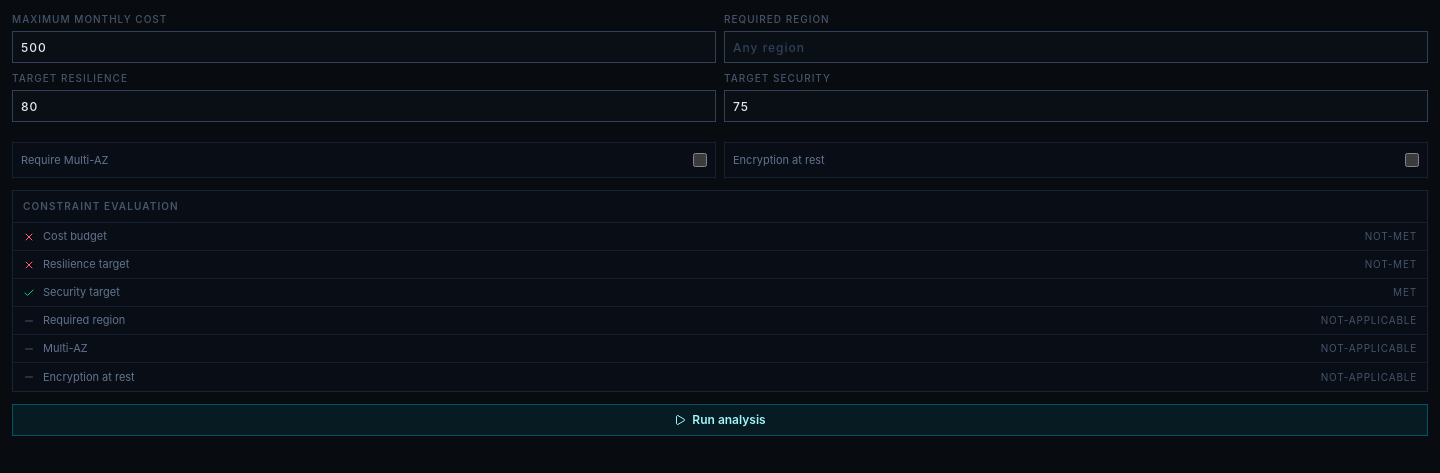
Scenario: numeric inspector validation › restores rejected Target resilience without changing history
The width and height of the screenshot is (1440, 473).
Replace the text in the number field labelled "Target resilience" with "101" at (364, 106), box [12,90,716,122]
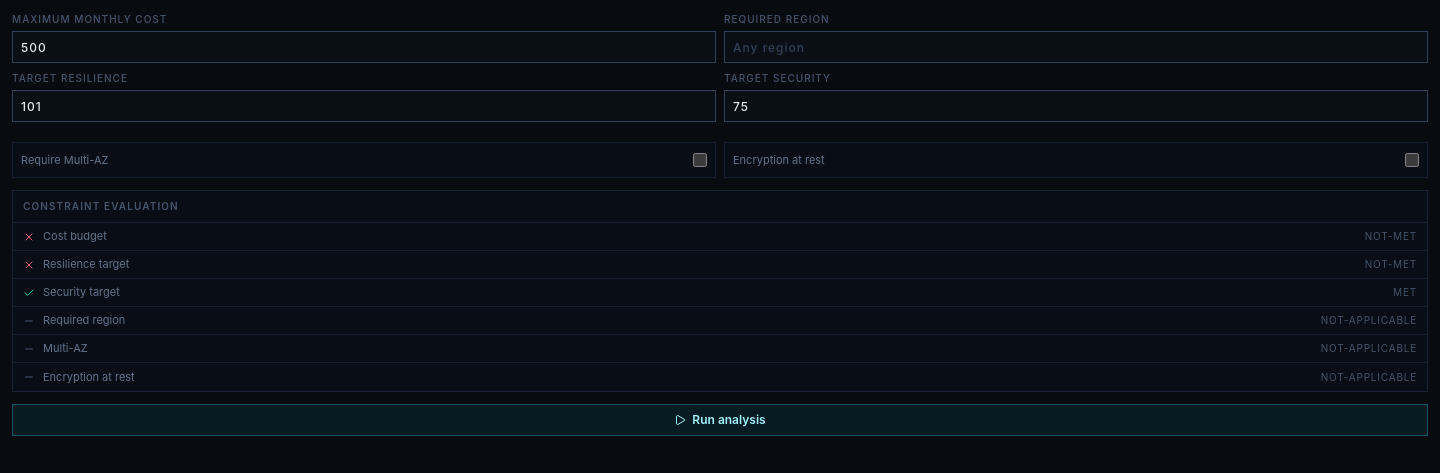
Leave the number field labelled "Target resilience", box [12,90,716,122]
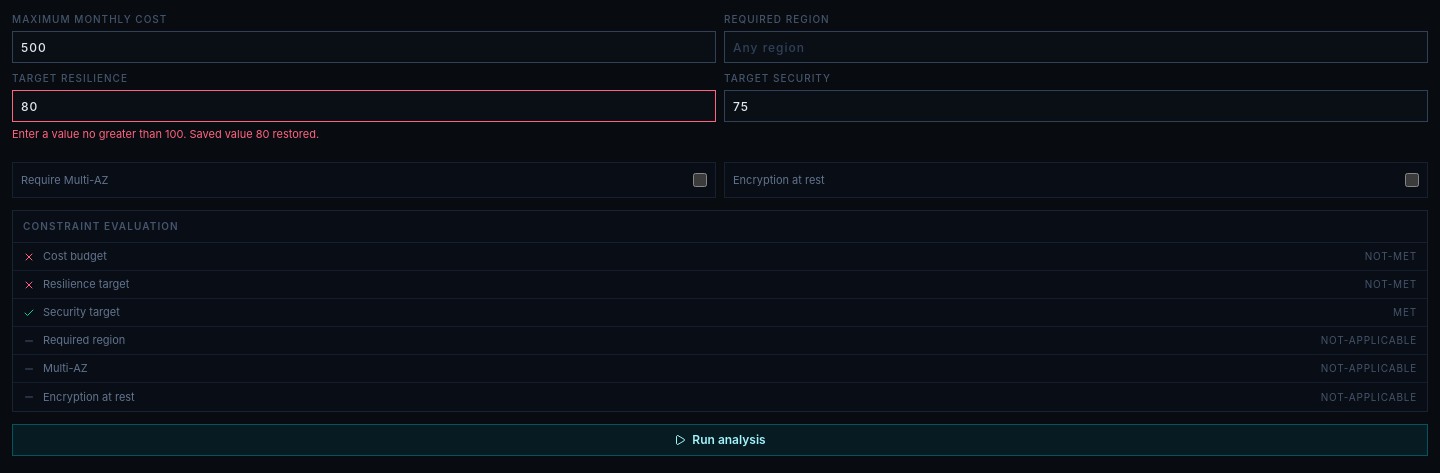
Check: the number field labelled "Target resilience" holds "80", box [12,90,716,122]
